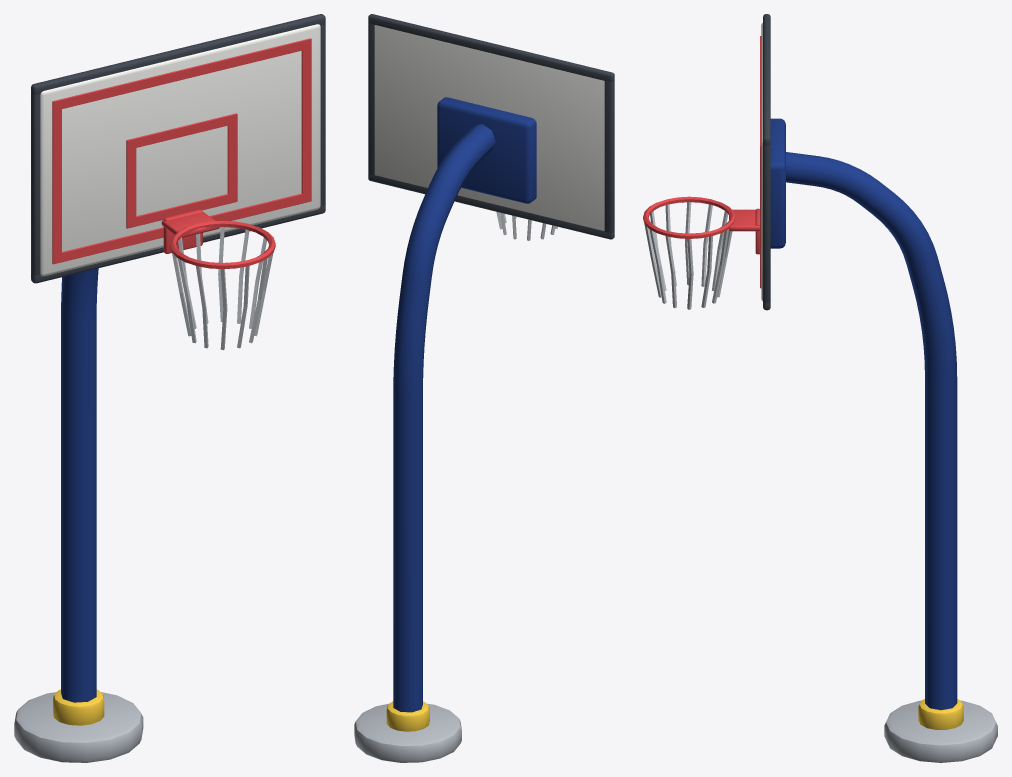
File: tabela_basquete_rua.glb
3 renders of one model, left to right at view 1: azimuth 30°, elevation 25°; view 2: azimuth 150°, elevation 25°; view 3: azimuth 270°, elevation 25°, orthographic. The views are drawn at different scales.
Visible parts, largest first — view 1: tabela_basquete_rua; view 2: tabela_basquete_rua; view 3: tabela_basquete_rua.
Boxes of the visible parts, left/top/right/bottom form: tabela_basquete_rua: left=14, top=14, right=325, bottom=762; tabela_basquete_rua: left=354, top=14, right=614, bottom=762; tabela_basquete_rua: left=643, top=14, right=997, bottom=762.
Bounding box in the file's own units: 1.56 × 3.88 × 1.87.
Materials: 1 (1 with a texture image).
